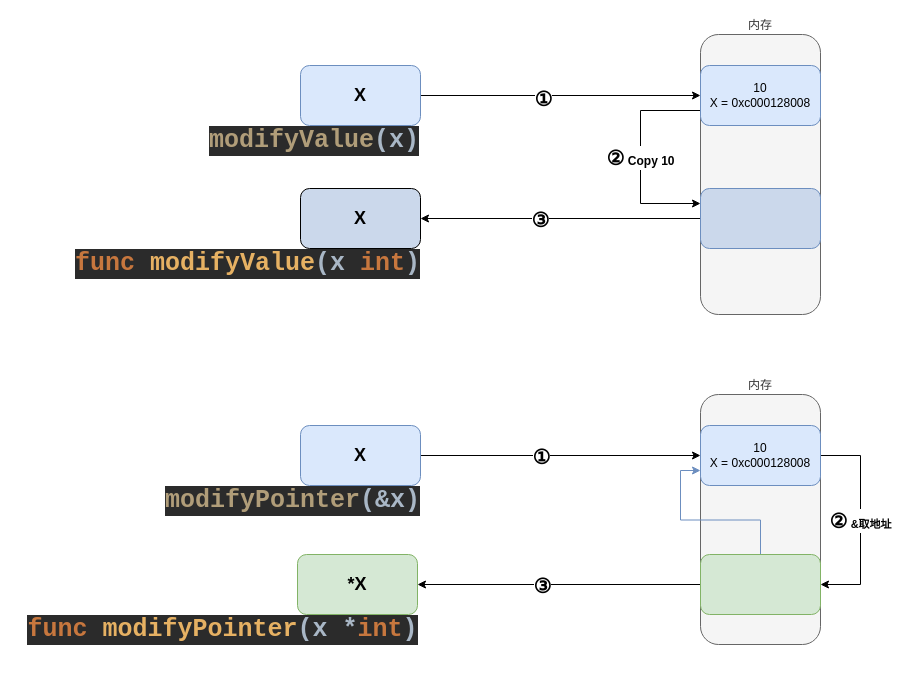
The diagram is 908 pixels wide and 686 high, and some of its shapes have lost their labels. The shapes that lost their labels are listed below. From the top down, each one's centre as x and y in pixels, then its label:
point (760, 218): 10 X = 0xc000128020
point (760, 584): 0xc000128008 X = 0xc000122020
